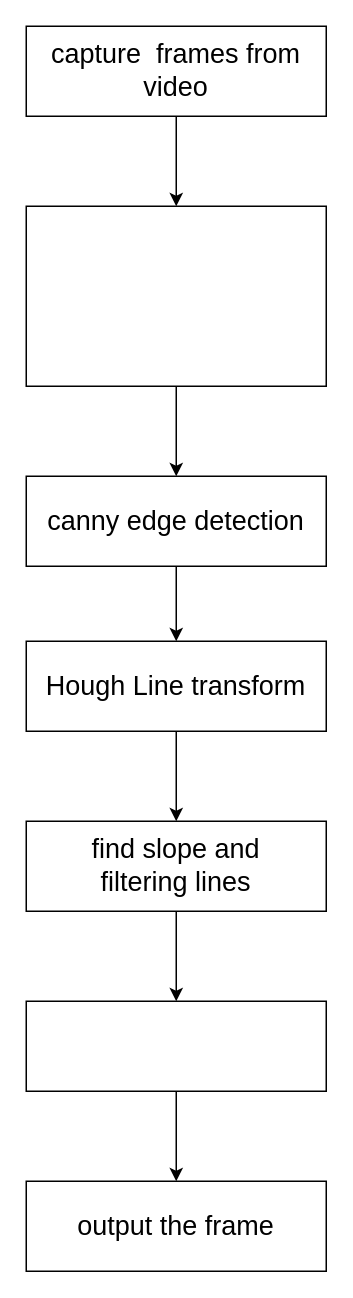
Some shapes in this 353 by 1298 pixel diagram are drawn without their labels. Here are the shapes that lost their labels. From the top down, the centre of each, then its label:
At point (175, 295): "Initial preprocessing (color conversion, blurring, region of Interest)".
At point (175, 1045): "draw the filtered lines".
